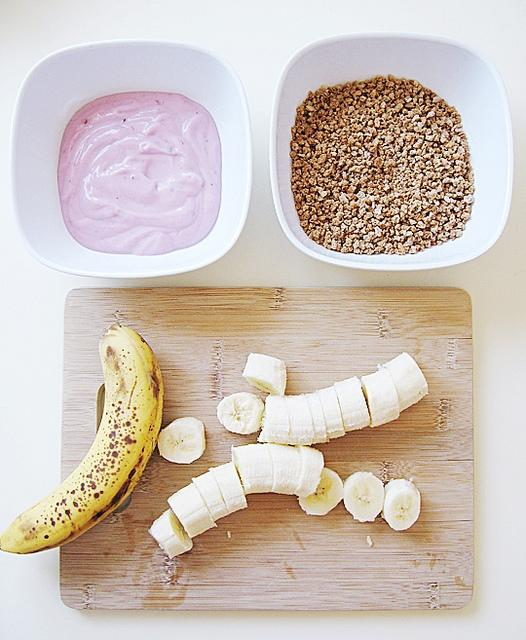banana: (0, 324, 164, 554), (191, 461, 248, 522), (168, 483, 218, 538), (384, 352, 428, 412), (360, 364, 399, 428), (148, 507, 194, 561), (157, 416, 206, 464), (297, 466, 344, 516), (344, 470, 386, 522), (231, 444, 273, 494), (216, 392, 264, 435), (382, 478, 421, 530), (242, 352, 286, 397), (335, 377, 371, 432), (266, 443, 300, 496), (283, 394, 315, 446), (257, 394, 290, 444), (316, 385, 346, 440), (294, 445, 324, 498), (304, 391, 330, 444)
